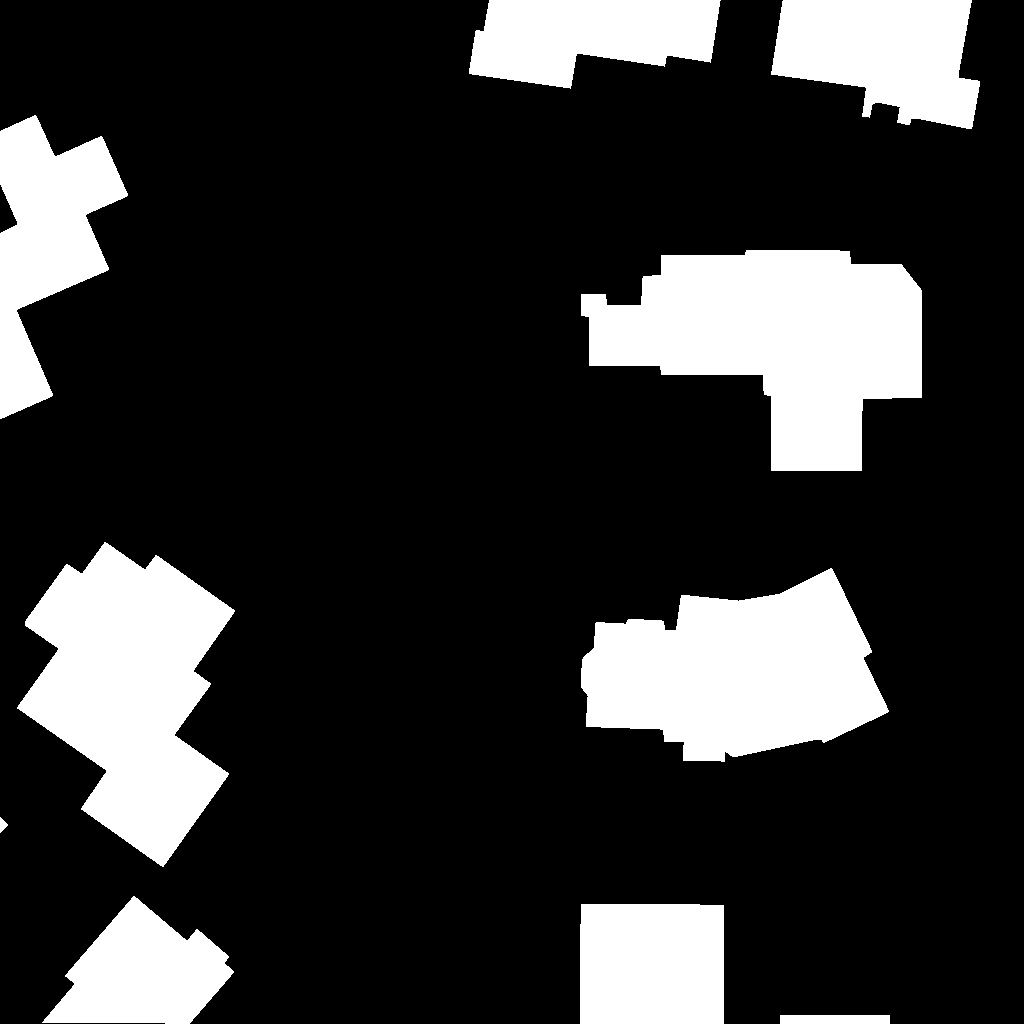building: (581, 250, 922, 471), (17, 542, 236, 868), (581, 568, 890, 762), (0, 115, 129, 420), (771, 0, 981, 130), (42, 896, 235, 1024), (469, 0, 721, 89), (580, 904, 725, 1024), (780, 1015, 891, 1024), (0, 817, 9, 834)
